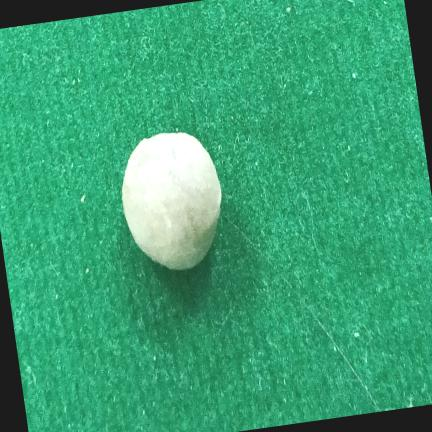cut: (121, 132, 221, 269)
